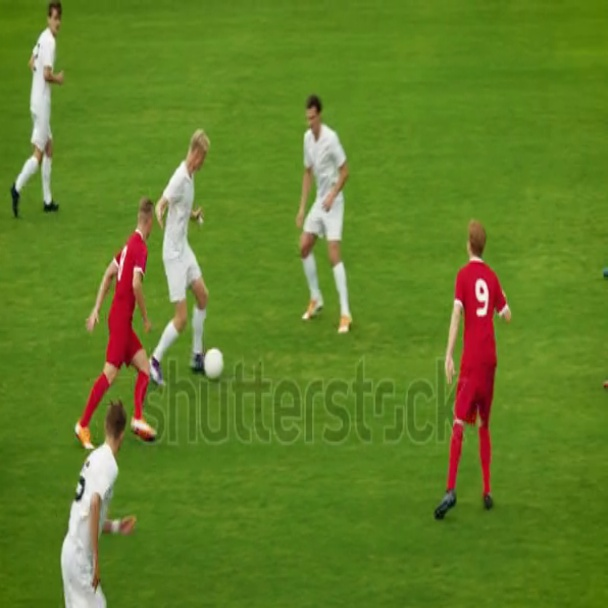ball: (199, 343, 229, 389)
